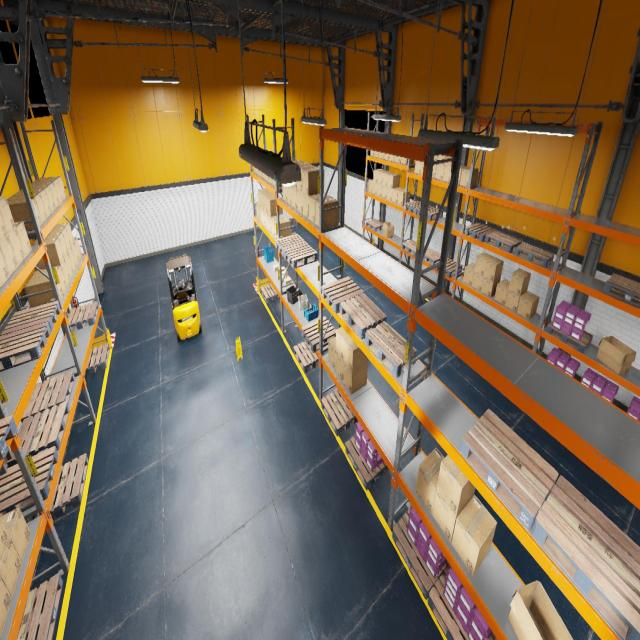box: (508, 580, 573, 640), (451, 494, 497, 576), (436, 455, 475, 516), (432, 490, 473, 542), (416, 447, 444, 514), (0, 507, 30, 562), (596, 336, 636, 374), (0, 537, 22, 598), (24, 275, 63, 308), (7, 192, 47, 224), (13, 189, 52, 218), (31, 237, 64, 271), (7, 199, 42, 231), (30, 265, 67, 294), (18, 185, 56, 213), (34, 232, 68, 258), (343, 337, 368, 372), (31, 179, 63, 204), (343, 362, 368, 394), (34, 176, 66, 200), (315, 197, 339, 229), (0, 576, 12, 638), (0, 236, 18, 276), (308, 193, 331, 224), (32, 182, 59, 208), (14, 221, 32, 257), (302, 167, 324, 196), (8, 229, 25, 266), (517, 291, 539, 319), (508, 268, 530, 296), (0, 197, 16, 234), (48, 227, 71, 252), (297, 164, 317, 192), (52, 222, 74, 247), (291, 162, 311, 188), (484, 256, 504, 282), (505, 290, 526, 312), (474, 252, 493, 276), (336, 326, 349, 361), (494, 279, 510, 306), (0, 518, 9, 564), (481, 277, 500, 297), (274, 217, 291, 239), (460, 167, 478, 187), (0, 248, 9, 286), (271, 214, 286, 236), (266, 196, 282, 216), (264, 194, 278, 214), (463, 263, 475, 286), (445, 149, 462, 165), (328, 336, 336, 369), (336, 351, 344, 382), (61, 259, 70, 286), (0, 212, 8, 242), (260, 191, 272, 210), (397, 189, 410, 206), (472, 272, 483, 292), (458, 165, 469, 185), (65, 253, 73, 279), (73, 237, 82, 260), (68, 247, 76, 272), (387, 173, 400, 188), (392, 188, 404, 204), (382, 171, 394, 187), (258, 188, 268, 207), (383, 222, 394, 238), (72, 242, 79, 266), (378, 170, 390, 184), (302, 192, 308, 218), (291, 186, 297, 210), (435, 164, 444, 180), (373, 169, 384, 182), (443, 165, 451, 182), (297, 189, 302, 214), (286, 186, 292, 206), (401, 157, 414, 165), (414, 161, 422, 174), (282, 185, 287, 202), (386, 187, 392, 201), (264, 211, 268, 229), (438, 155, 446, 164), (368, 179, 373, 193), (261, 208, 265, 225), (273, 180, 282, 187), (382, 186, 387, 198), (377, 184, 382, 196), (372, 182, 377, 194), (279, 274, 286, 282), (432, 164, 436, 178), (268, 214, 271, 232), (259, 205, 262, 222), (284, 277, 291, 284), (256, 202, 259, 218), (389, 154, 395, 162), (282, 267, 287, 276), (273, 264, 279, 271), (395, 156, 401, 163), (384, 153, 390, 160), (292, 160, 305, 163), (421, 162, 424, 175), (262, 172, 266, 180), (370, 150, 375, 156), (278, 266, 285, 270), (269, 177, 273, 184), (380, 152, 384, 159), (375, 151, 379, 158), (266, 175, 269, 182), (254, 167, 257, 173), (434, 155, 437, 161), (260, 171, 262, 177), (257, 169, 259, 175)
forklift: (166, 254, 202, 342)
pallets: (531, 476, 640, 640), (460, 409, 558, 531), (427, 564, 497, 640), (392, 506, 449, 599), (6, 401, 70, 467), (0, 446, 59, 516), (34, 454, 88, 518), (17, 572, 63, 640), (365, 321, 417, 378), (21, 370, 75, 422), (0, 322, 51, 372), (345, 435, 388, 490), (0, 300, 61, 336), (340, 293, 387, 339), (321, 389, 357, 436), (321, 276, 364, 314), (546, 320, 593, 352), (301, 316, 336, 352), (603, 274, 640, 306), (63, 301, 99, 333), (514, 242, 554, 268), (84, 342, 110, 376), (284, 243, 317, 268), (485, 231, 522, 253), (0, 415, 18, 460), (294, 340, 318, 372), (275, 234, 306, 256), (464, 223, 497, 242), (434, 258, 462, 277), (260, 283, 280, 303), (402, 240, 424, 257), (417, 206, 443, 220), (404, 200, 429, 214), (423, 248, 440, 265), (366, 219, 383, 231), (374, 246, 384, 252), (426, 296, 430, 300)
